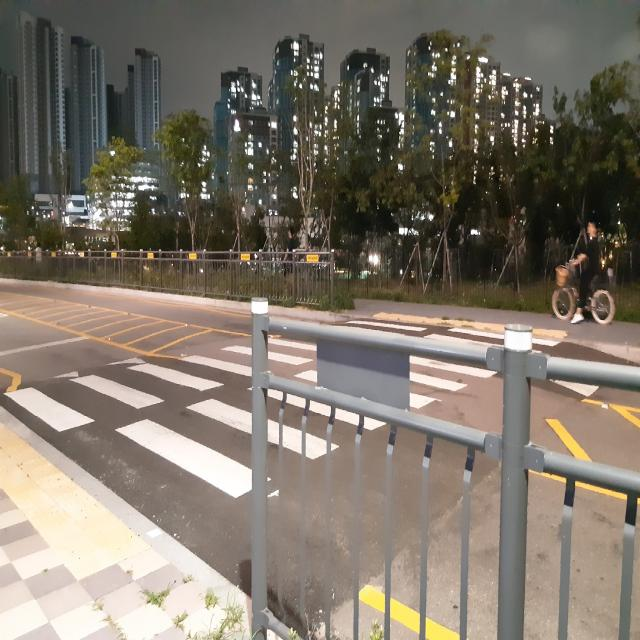횡단보도: (3, 334, 499, 500)
